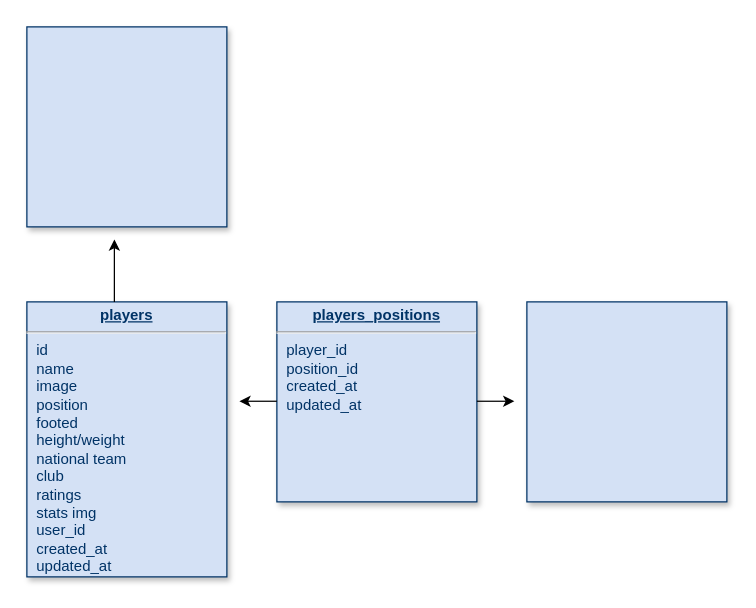
Some shapes in this 756 by 608 pixel diagram are drawn without their labels. Here are the shapes that lost their labels. From the top down, the centre of each, then its label:
At point 127,128: "users id username email password_digest created_at updated_at".
At point 627,403: "positions id name created_at updated_at".
